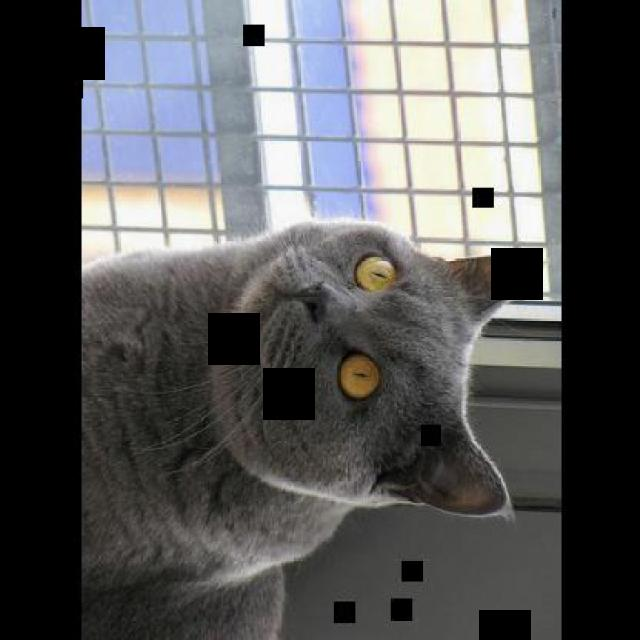unauthorized: (80, 217, 542, 638)
